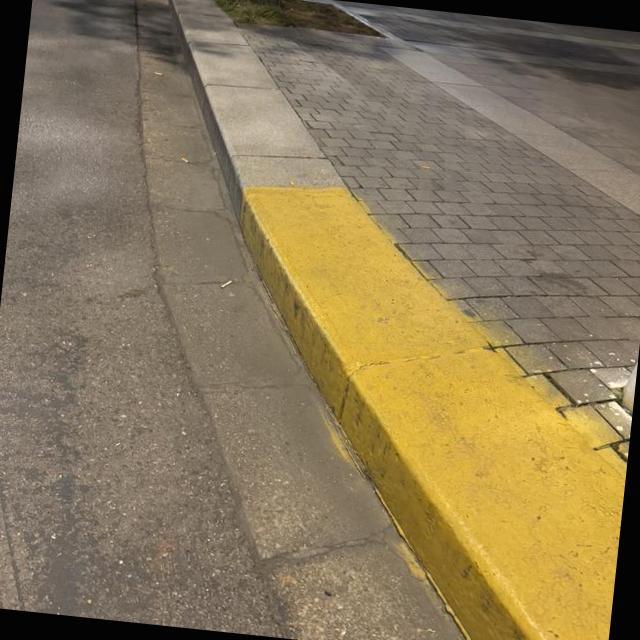curb: (243, 186, 625, 640), (171, 0, 341, 198)
